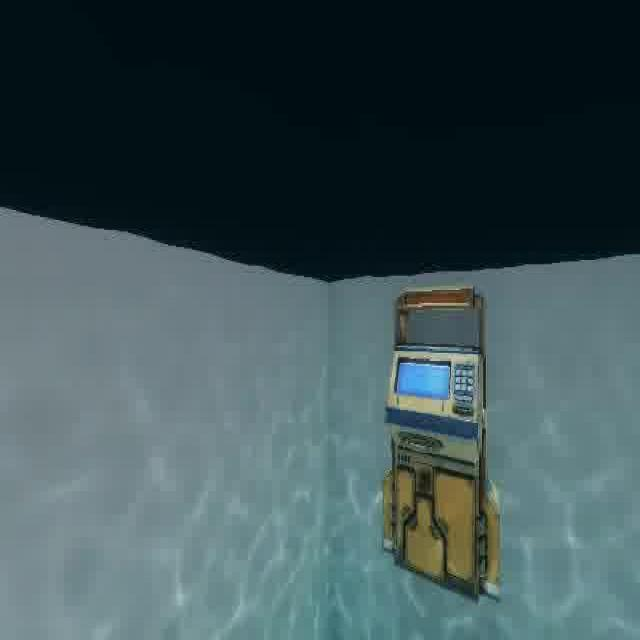Control Panel: (376, 284, 513, 610)
